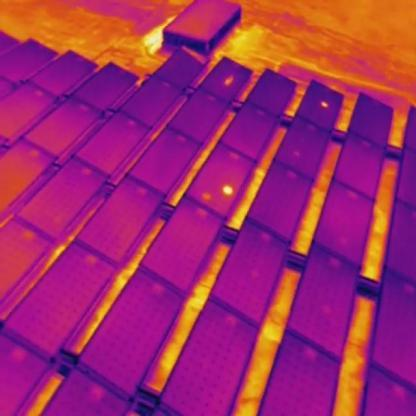anomaly: (219, 181, 239, 201), (317, 97, 330, 114), (223, 71, 235, 88)
